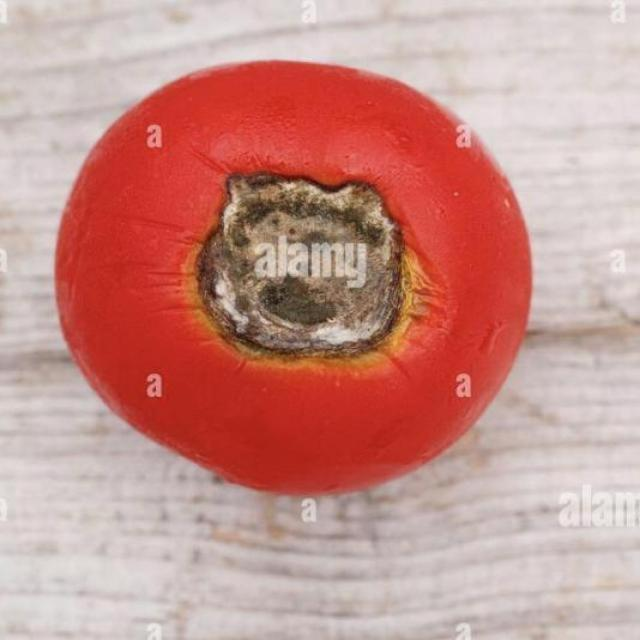Blossom End Rot Fruit: (128, 110, 281, 257)
